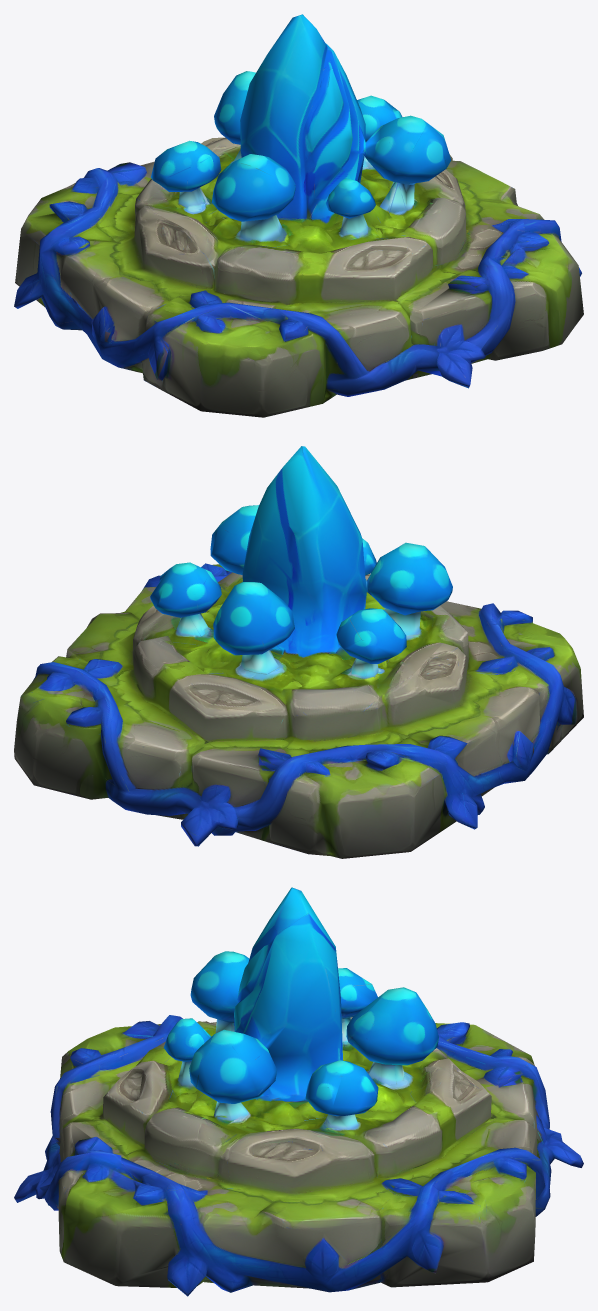
The model's file is Meshy_AI_Azure_Fungus_Circle_0508155159_texture.fbx.
3 views of the same model, one above another, from view 1: azimuth 30°, elevation 25°; view 2: azimuth 150°, elevation 25°; view 3: azimuth 270°, elevation 25° (orthographic). The views are drawn at different scales.
Visible parts, largest first — view 1: Mesh_0; view 2: Mesh_0; view 3: Mesh_0.
Boxes of the visible parts, box(x1,y1,x2,y2) form: Mesh_0: box(14, 14, 583, 417); Mesh_0: box(14, 446, 583, 858); Mesh_0: box(14, 887, 583, 1296).
Size of the model in its own units: 185 by 110 by 191.
Materials: 1 (1 with a texture image).
